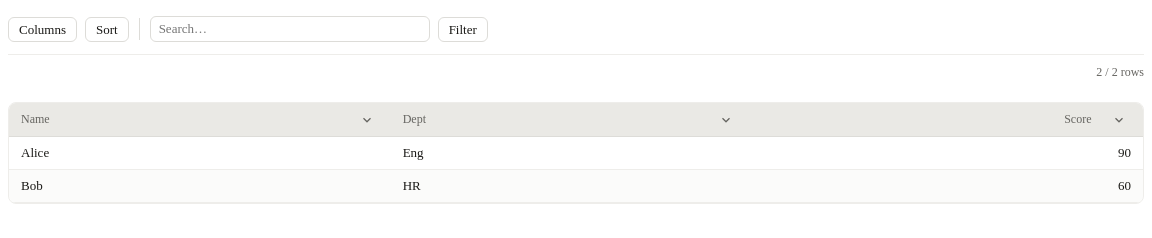
Test: DataTable — filter dropdown › keeps an excluded value visible even when its live count drops to 0
Click the button "Filter" at (463, 29), box [438, 16, 488, 42]
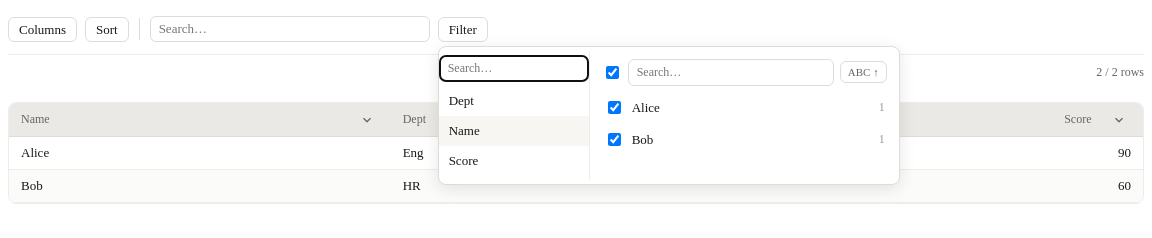
Click the 1st button "Dept" at (514, 100), box [439, 86, 589, 116]
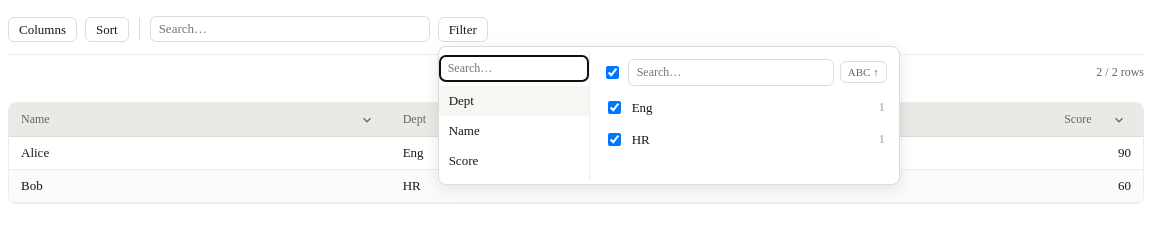
Click the checkbox labelled "HR" at (614, 140), box [608, 133, 621, 146]
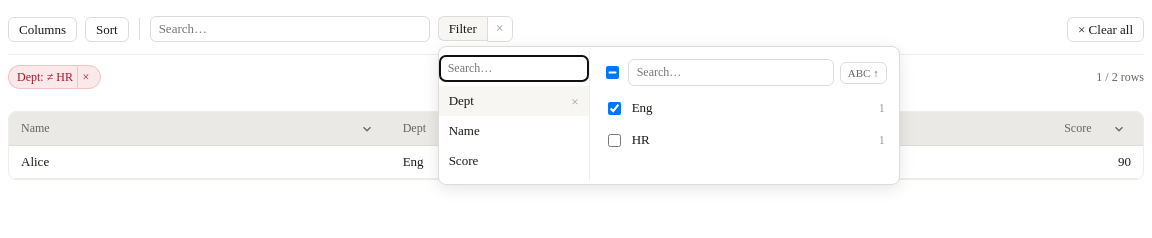
Click the 2nd button "Score" at (514, 161), box [439, 146, 589, 176]
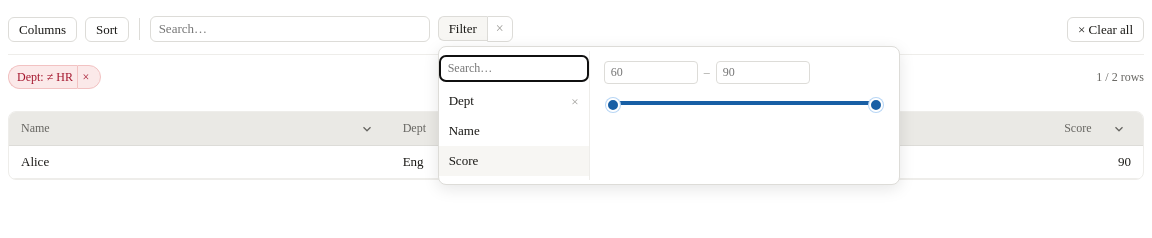
Type "100" into the number field named " Min" at (651, 72), box [604, 61, 698, 84]
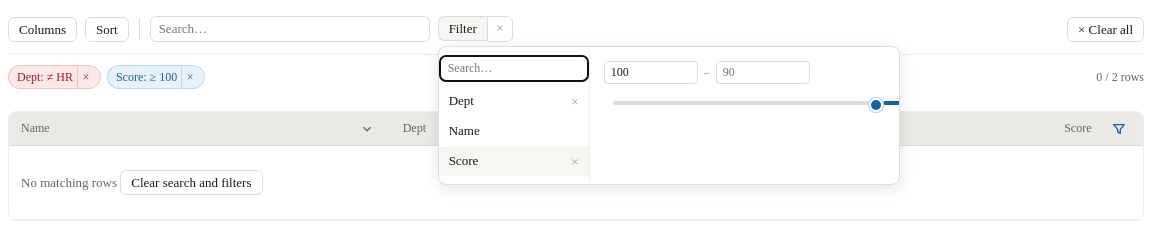
Click the 1st button "Dept" at (500, 101), box [439, 86, 561, 116]
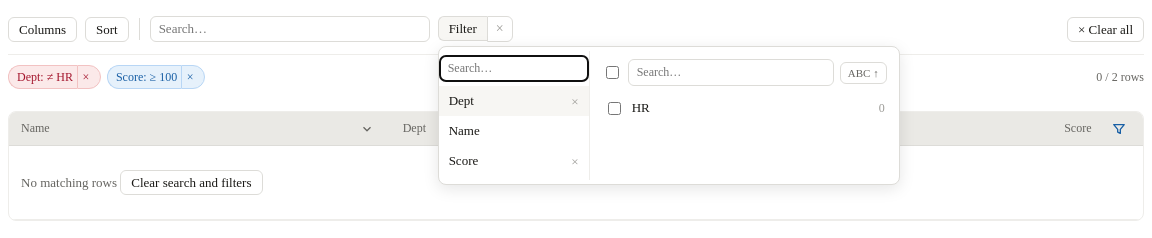
Expected: the checkbox labelled "HR" is not checked, [608, 102, 621, 114]
